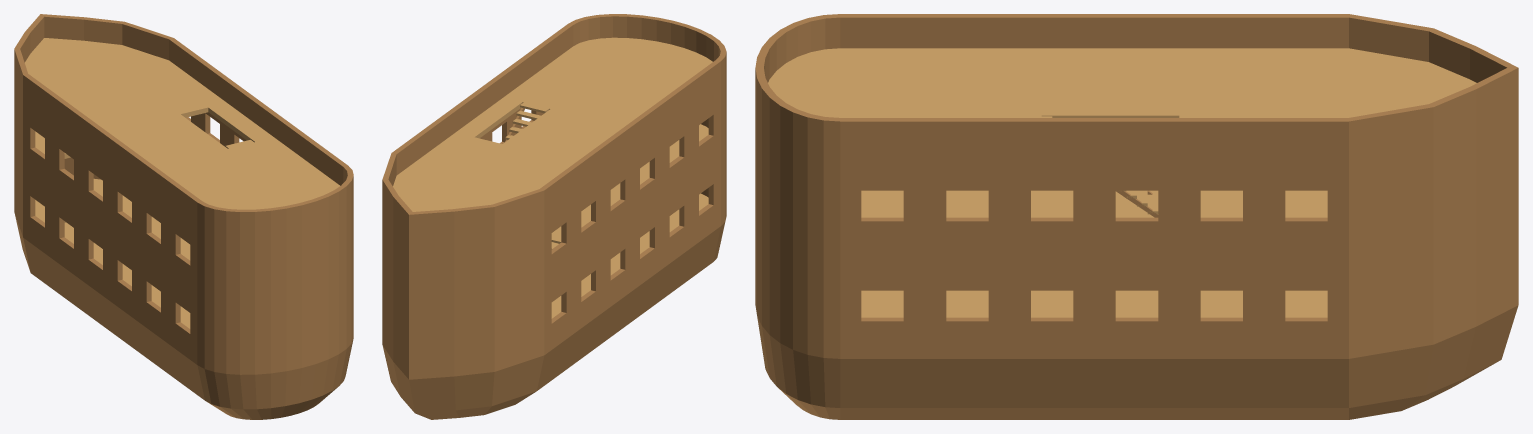
File: TRIPLE_DECK.glb
3 views of the same model, side by side, from view 1: azimuth 30°, elevation 25°; view 2: azimuth 150°, elevation 25°; view 3: azimuth 270°, elevation 25° (orthographic). The views are drawn at different scales.
Size of the model in its own units: 6 by 8.6 by 18.
